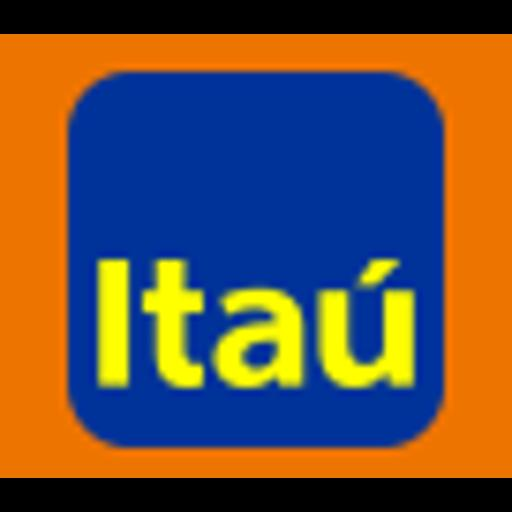Itau Unibanco S-A: (0, 34, 512, 478)
